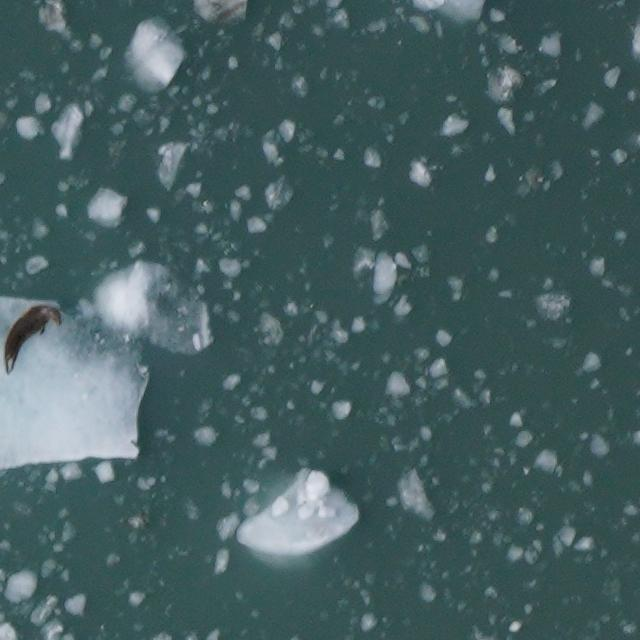seal: (2, 298, 70, 380)
